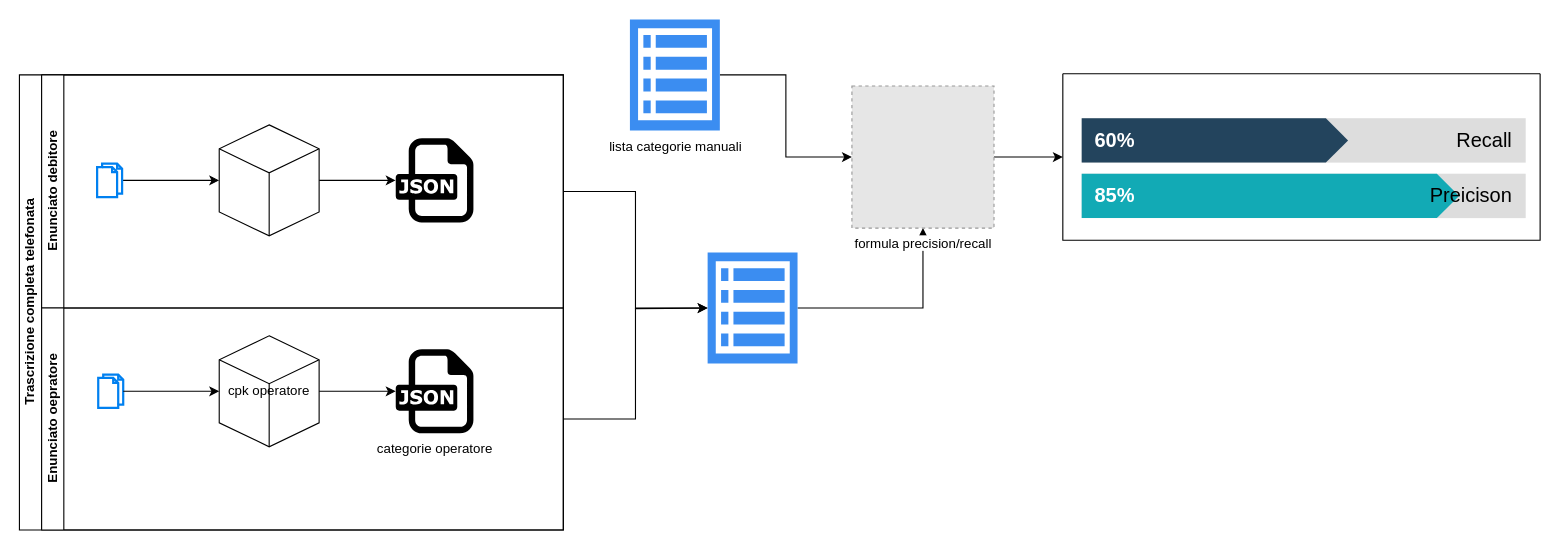
This 1560x549 diagram has some shape labels left out. Grey dashed boxes stand in for pictures. The shapes that lost their labels are listed below. From the top down, each one's centre as x and y in pixels, then its label:
At (109,180): "testo debitore".
At (268,180): "cpk debitore".
At (434,179): "categorie debitore".
At (752,307): "lista categorie totali".
At (110,390): "testo operatore".
